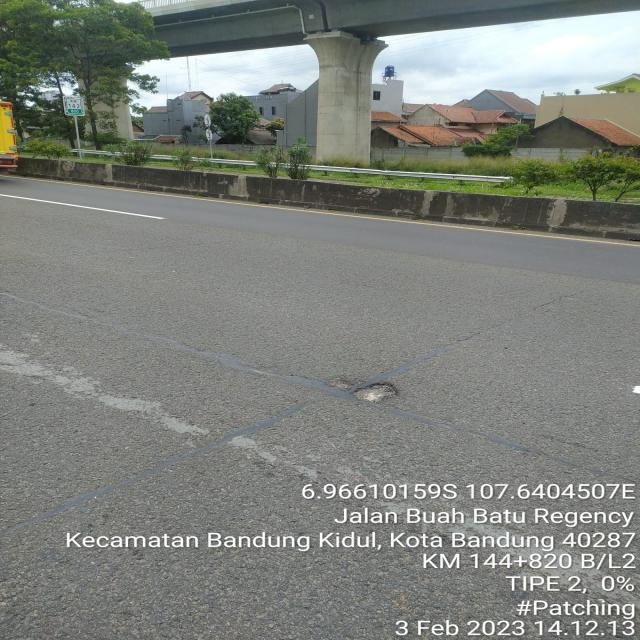Buraco: (349, 381, 400, 405)
